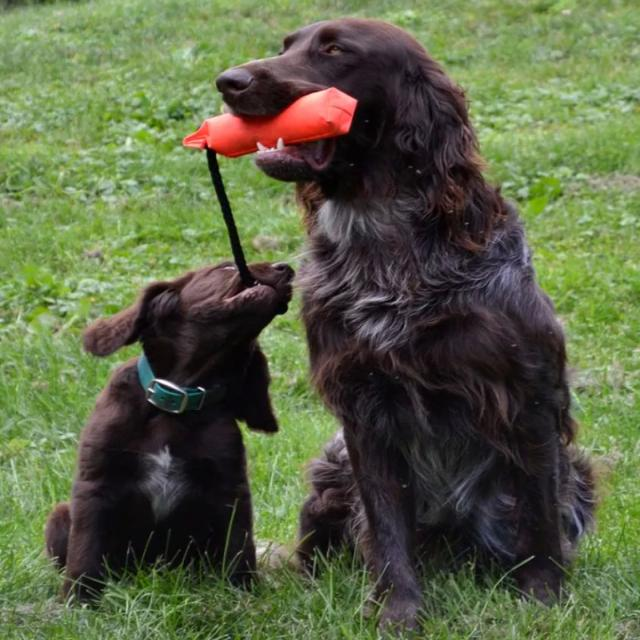dog: (19, 3, 616, 616)
